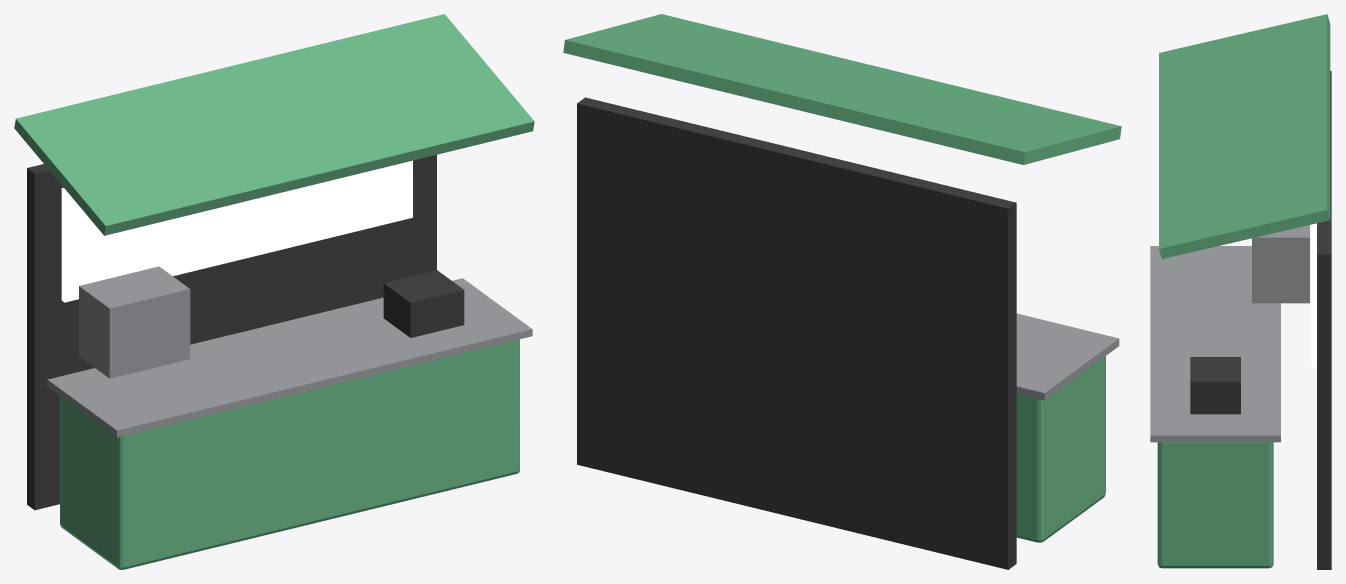
The model's file is food_stall_b.glb.
3 views of the same model, side by side, from view 1: azimuth 30°, elevation 25°; view 2: azimuth 150°, elevation 25°; view 3: azimuth 270°, elevation 25° (orthographic). The views are drawn at different scales.
Visible parts, largest first — view 1: food_stall_b; view 2: food_stall_b; view 3: food_stall_b.
Part boxes in pixels (x1=…): food_stall_b: x1=14, y1=14, x2=534, y2=569; food_stall_b: x1=563, y1=14, x2=1121, y2=569; food_stall_b: x1=1150, y1=14, x2=1331, y2=569.
Size of the model in its own units: 3.2 by 2.79 by 1.25.
